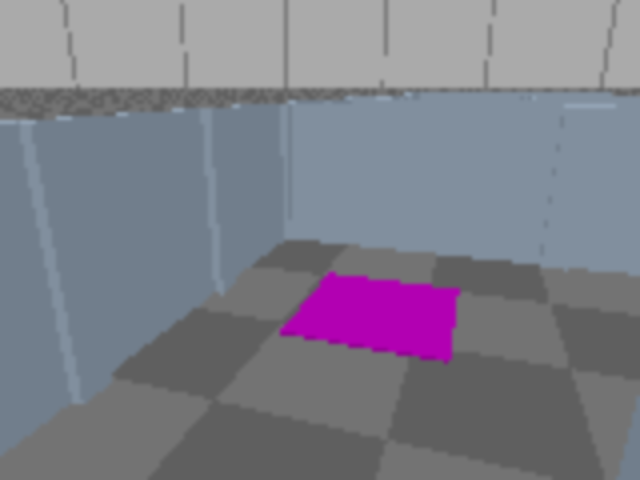goal_zone: (280, 273, 459, 363)
